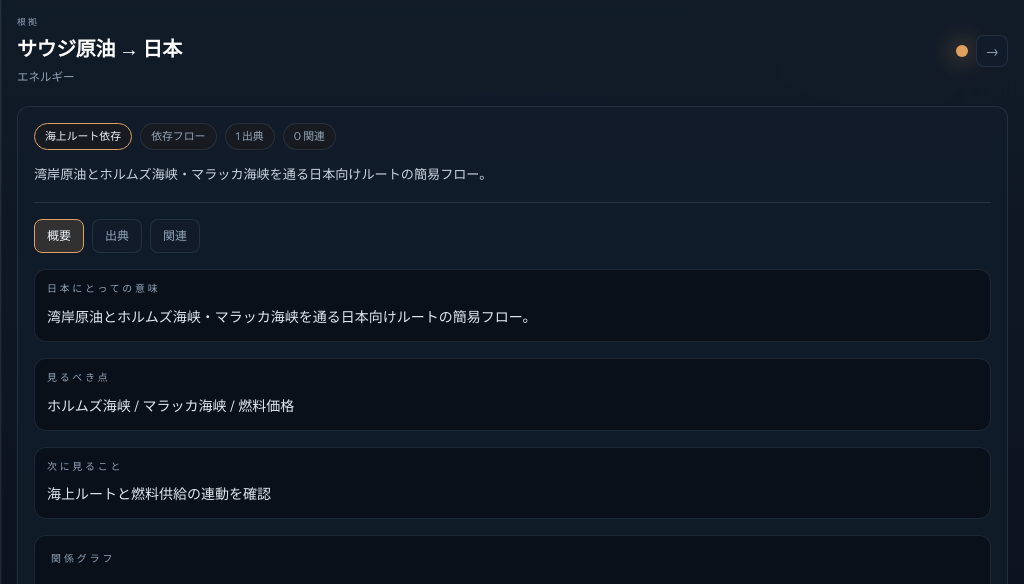
Test case: evidence panel structure › resolves the official source chip for legacy official false
Click the button "出典". click: (117, 236)
box: [92,219,142,253]
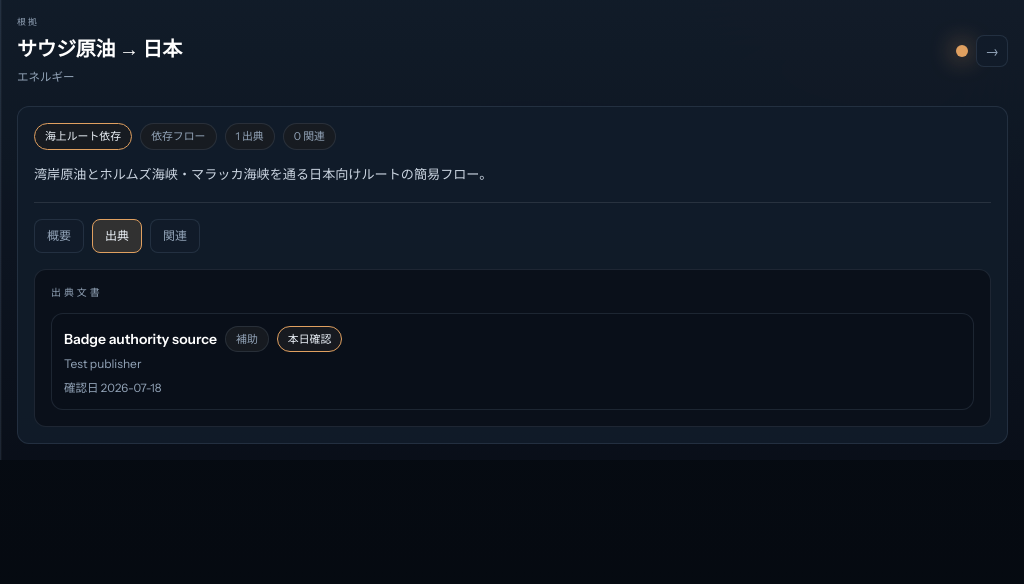
Expected: the text "補助" is shown, [225,326,269,352]
